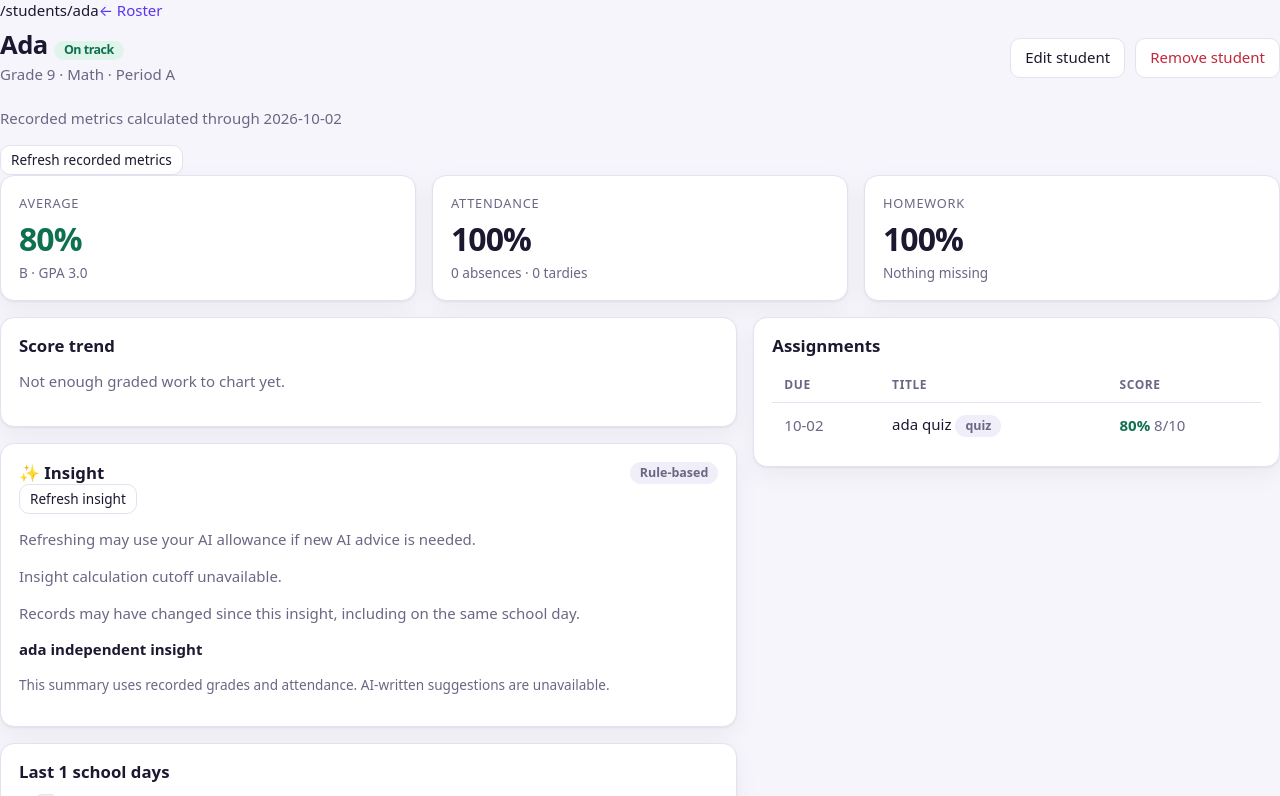
Scenario: cancels an A confirmation after committed B navigation instead of deleting B
This screenshot has width=1280, height=796.
expect the heading "Ada On track" is shown: met, box [0, 27, 124, 62]
Click the button "Remove student" at (1208, 58), box [1135, 38, 1279, 78]
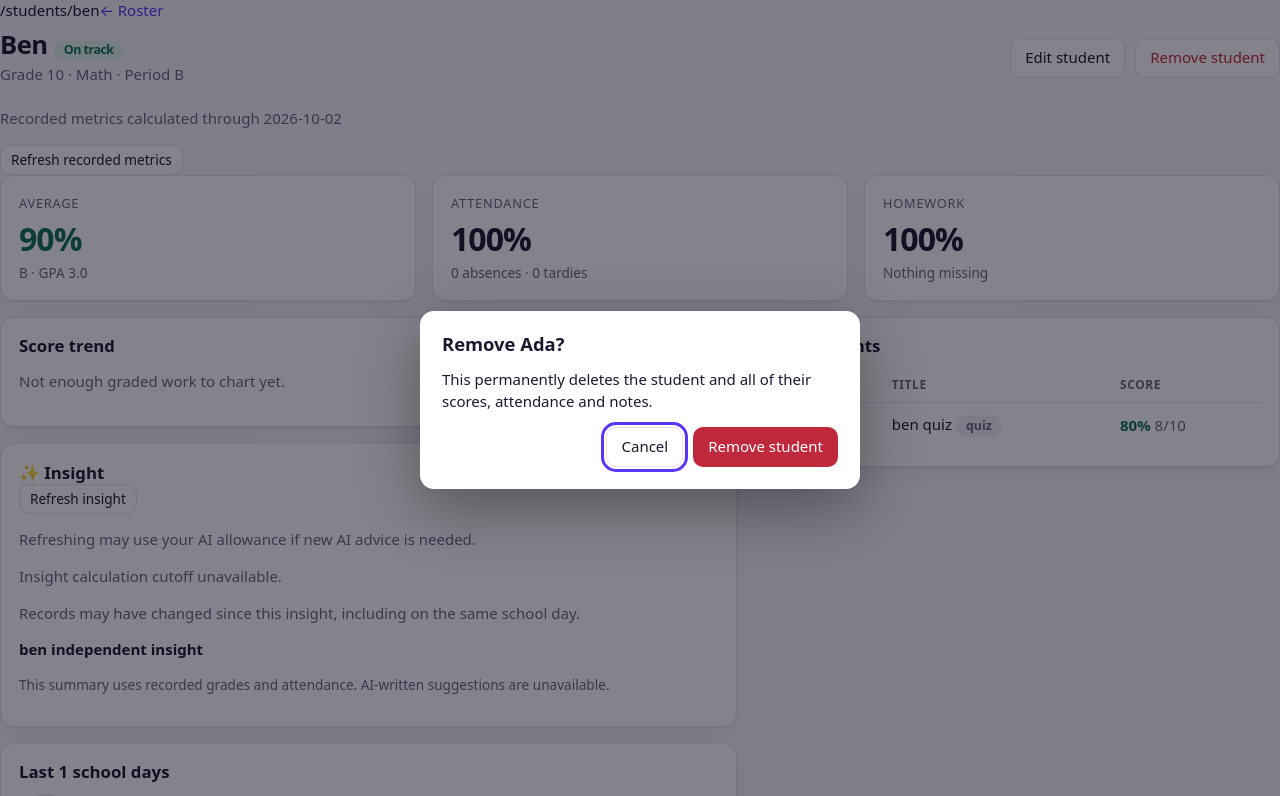
expect the dialog "Remove Ada?" shows "This permanently deletes the student and all of their scores, attendance and notes.": met, box [442, 369, 811, 411]
expect the heading "Ben On track" is shown: met, box [0, 27, 124, 62]
Click the button "Remove student" at (766, 447), box [693, 427, 838, 467]
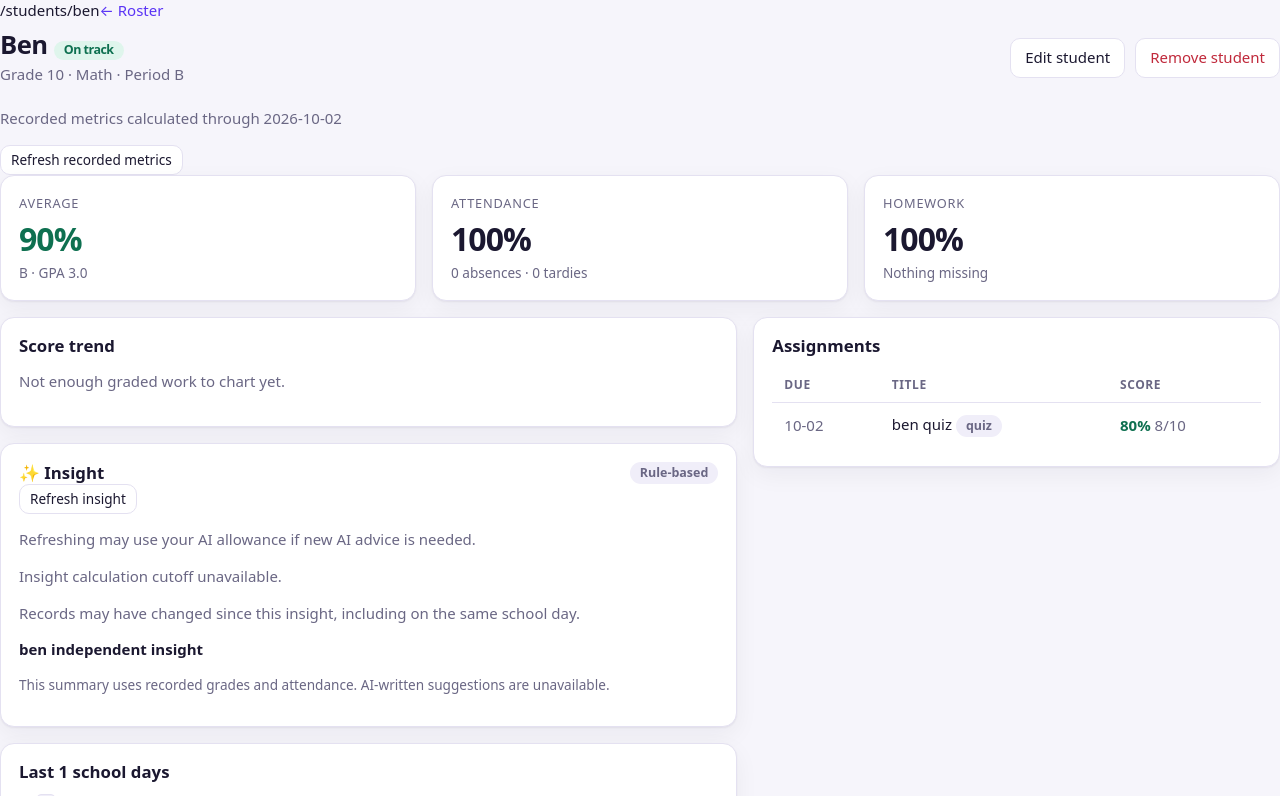
expect the text named "Current route" reads "/students/ben": met, box [0, 0, 100, 20]
expect the dialog is gone: met
